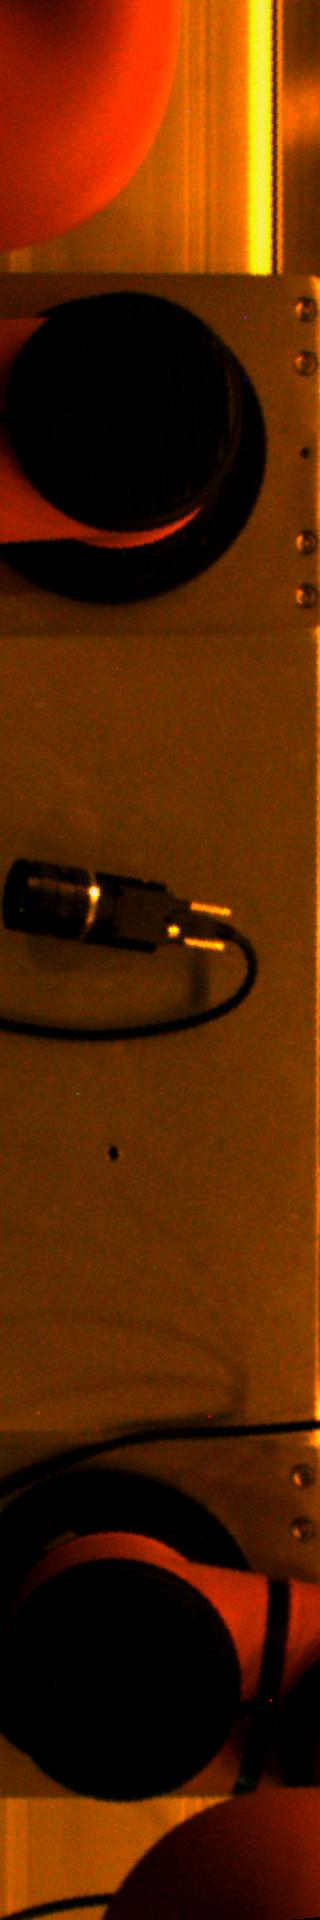keyPoint_2: (97, 1138, 128, 1167)
